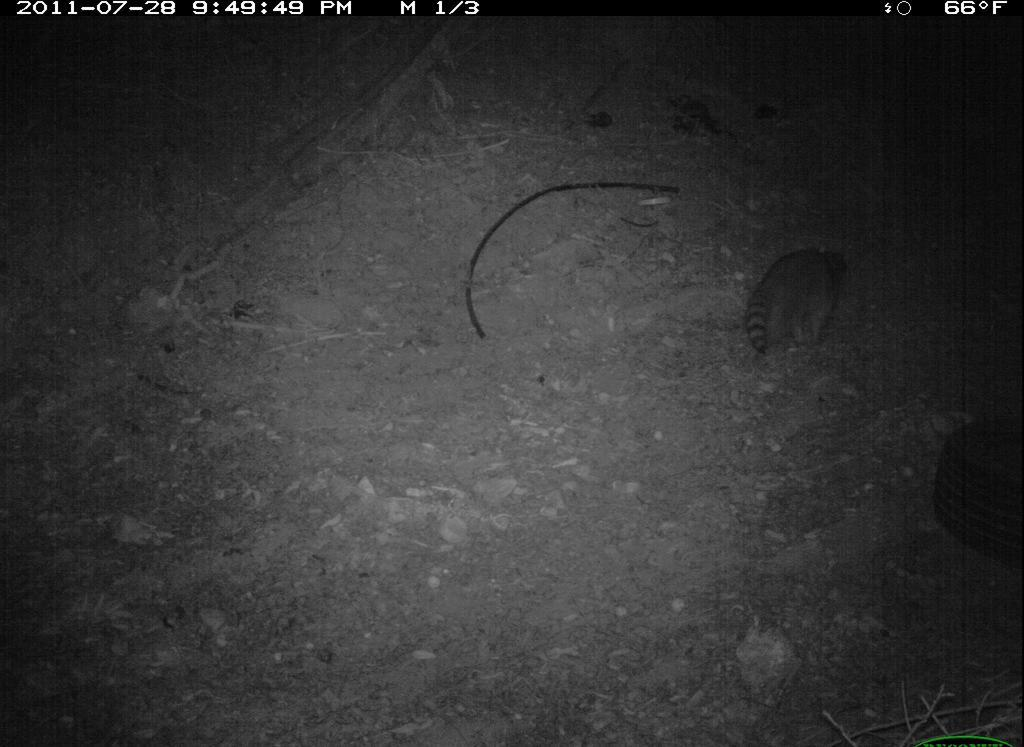raccoon: (734, 223, 862, 377)
